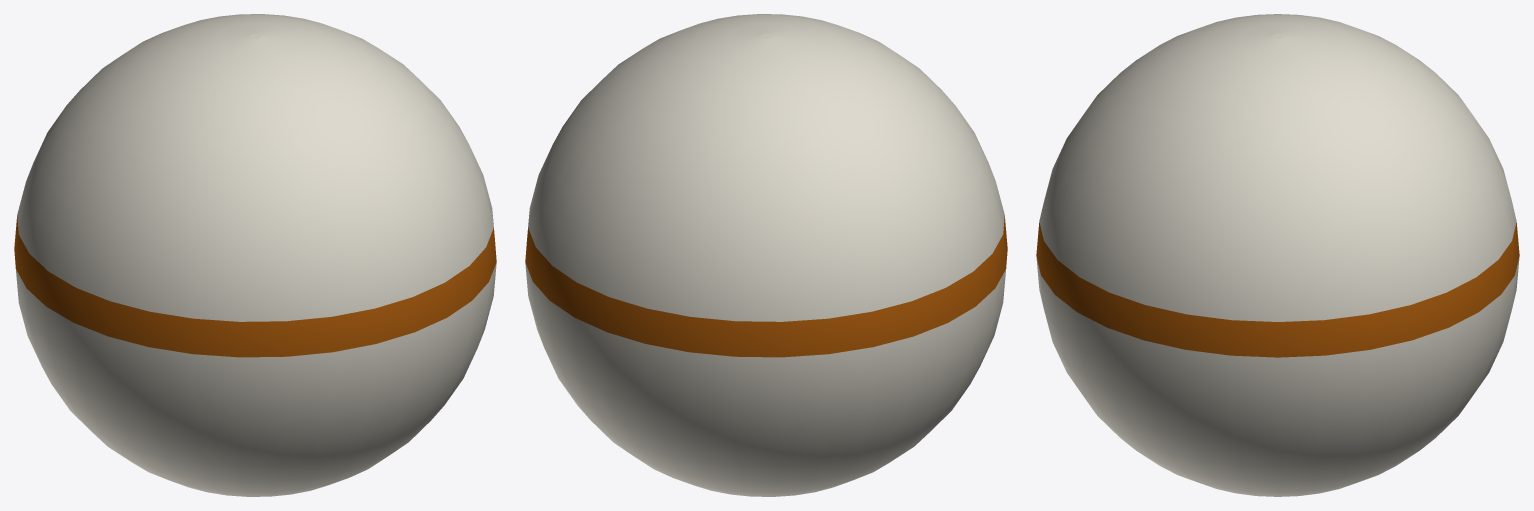
File: cozy_tt_ball_white_3star.obj
The picture shows the model from 3 angles, left to right: view 1: azimuth 30°, elevation 25°; view 2: azimuth 150°, elevation 25°; view 3: azimuth 270°, elevation 25°; orthographic projection.
Parts seen in each view (by area): view 1: cozy_tt_ball_white_3star_Mesh; view 2: cozy_tt_ball_white_3star_Mesh; view 3: cozy_tt_ball_white_3star_Mesh.
Part boxes in pixels (x1,y1,x2,y2): cozy_tt_ball_white_3star_Mesh: [14, 14, 496, 496]; cozy_tt_ball_white_3star_Mesh: [525, 14, 1007, 496]; cozy_tt_ball_white_3star_Mesh: [1036, 14, 1519, 496].
Bounding box in the file's own units: 0.04 × 0.04 × 0.04.
